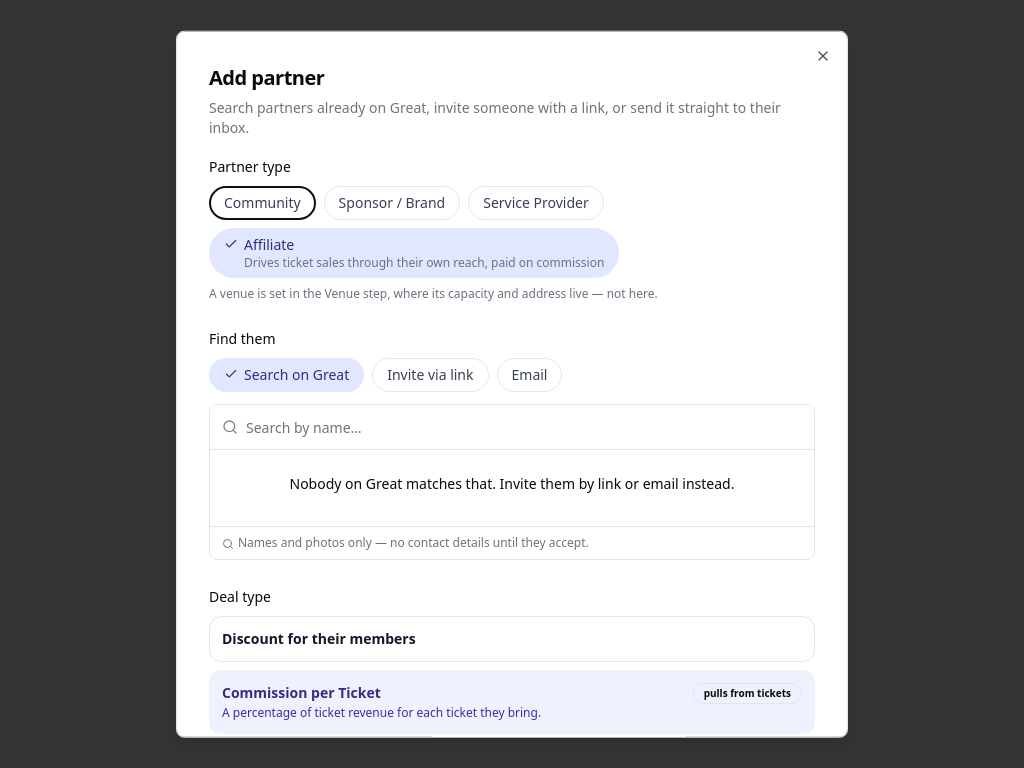
Test case: switches the visible terms with the selected deal
The image size is (1024, 768).
Click the button "Discount for their members" at x=319, y=638, box [209,616,815,662]
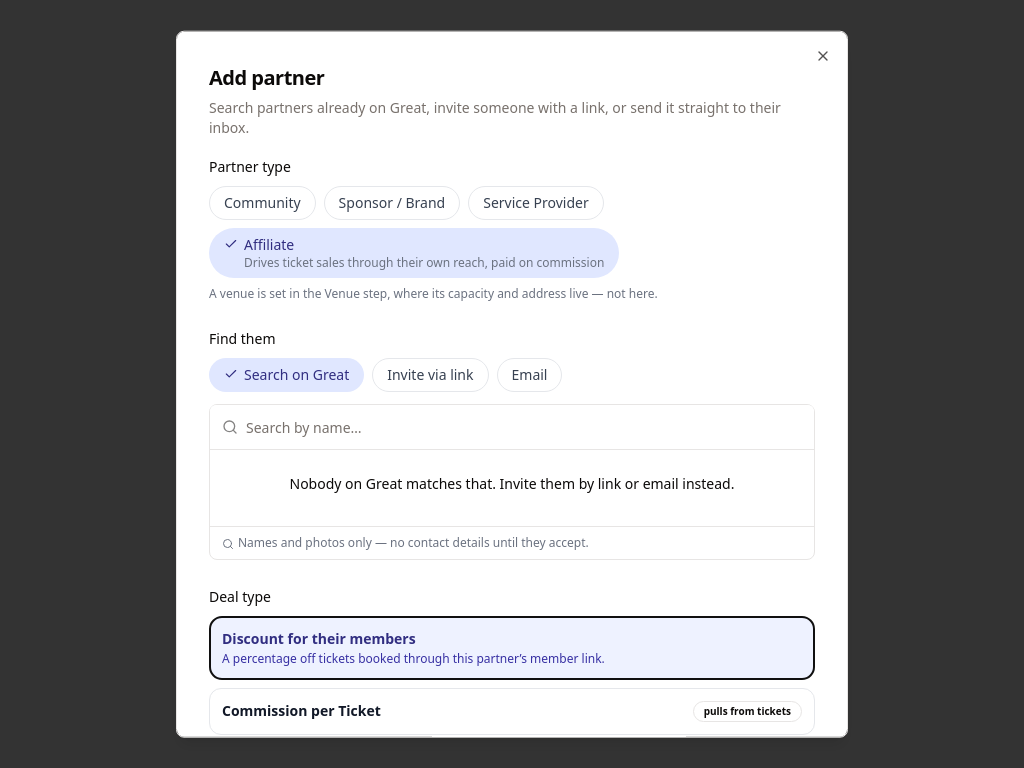
Click the text "Commission per Ticket" at x=301, y=711, box [222,701,381,721]
(page scrolled)
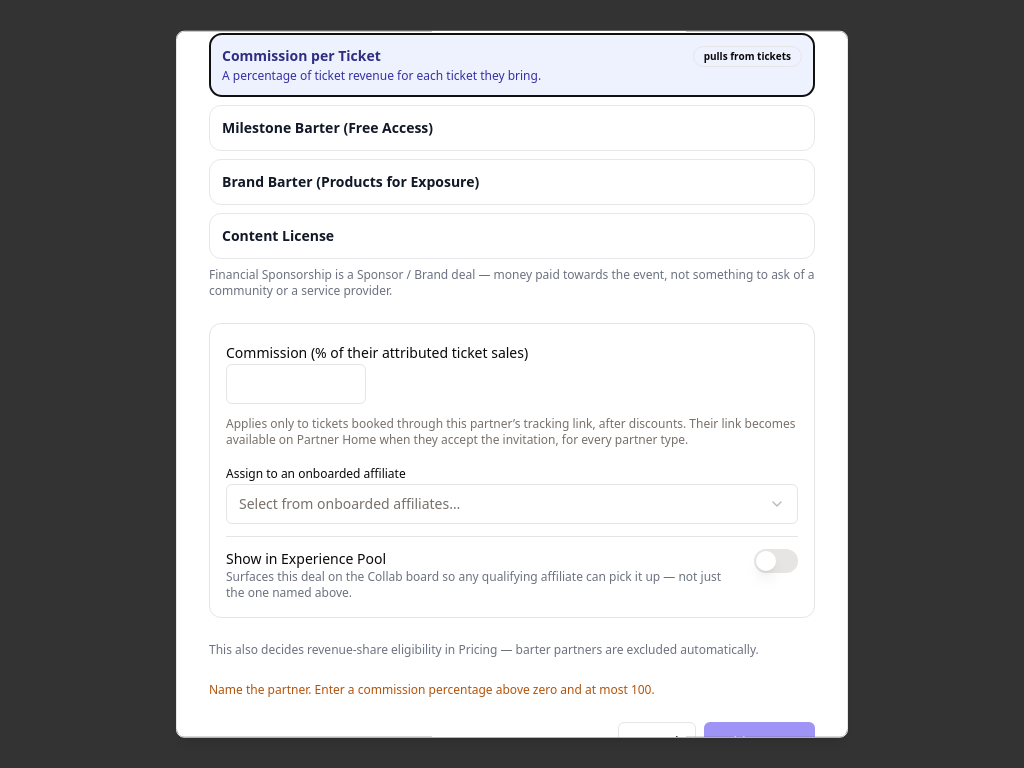
expect the number field with test id "input-partner-commission" is shown: met, box [226,364,366,404]
